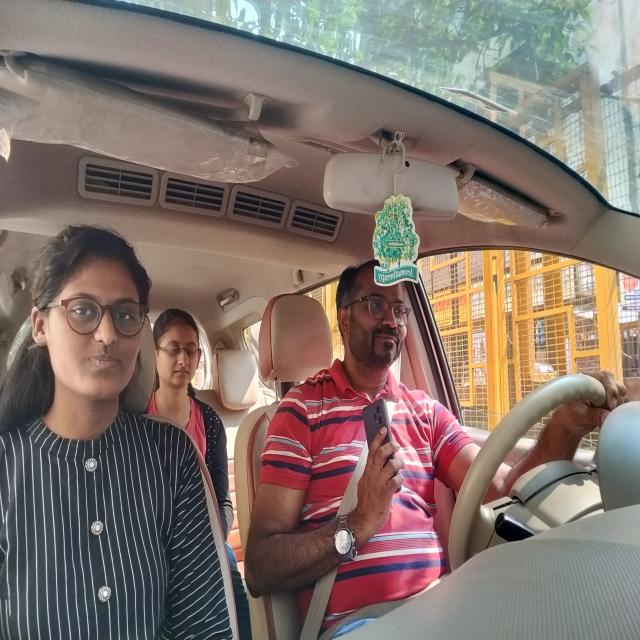mobile: (361, 395, 404, 499)
person: (28, 218, 153, 412), (334, 256, 417, 379), (152, 306, 204, 396)
